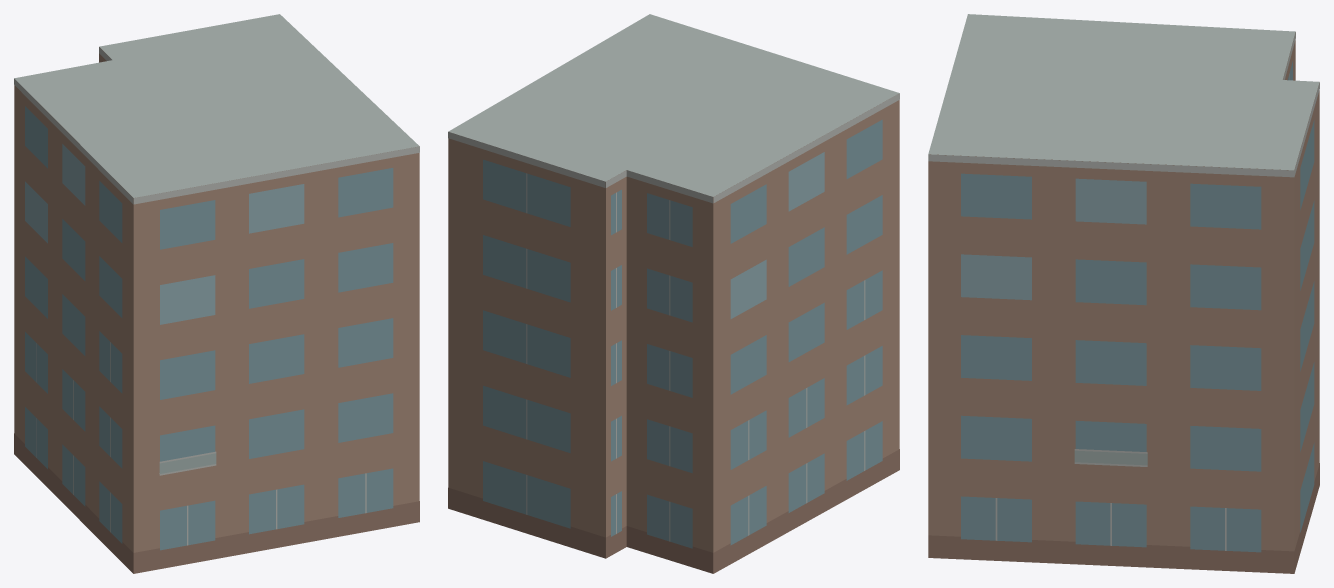
File: survey-upis-32704976.glb
3 renders of one model, left to right at view 1: azimuth 30°, elevation 25°; view 2: azimuth 150°, elevation 25°; view 3: azimuth 270°, elevation 25°, orthographic. The views are drawn at different scales.
Parts seen in each view (by area): view 1: survey-upis-32704976.tmp; view 2: survey-upis-32704976.tmp; view 3: survey-upis-32704976.tmp.
Boxes of the visible parts, x1=… form: survey-upis-32704976.tmp: x1=14, y1=14, x2=419, y2=573; survey-upis-32704976.tmp: x1=448, y1=14, x2=899, y2=573; survey-upis-32704976.tmp: x1=928, y1=14, x2=1319, y2=573.
Size of the model in its own units: 11.73 by 14.1 by 12.41.
